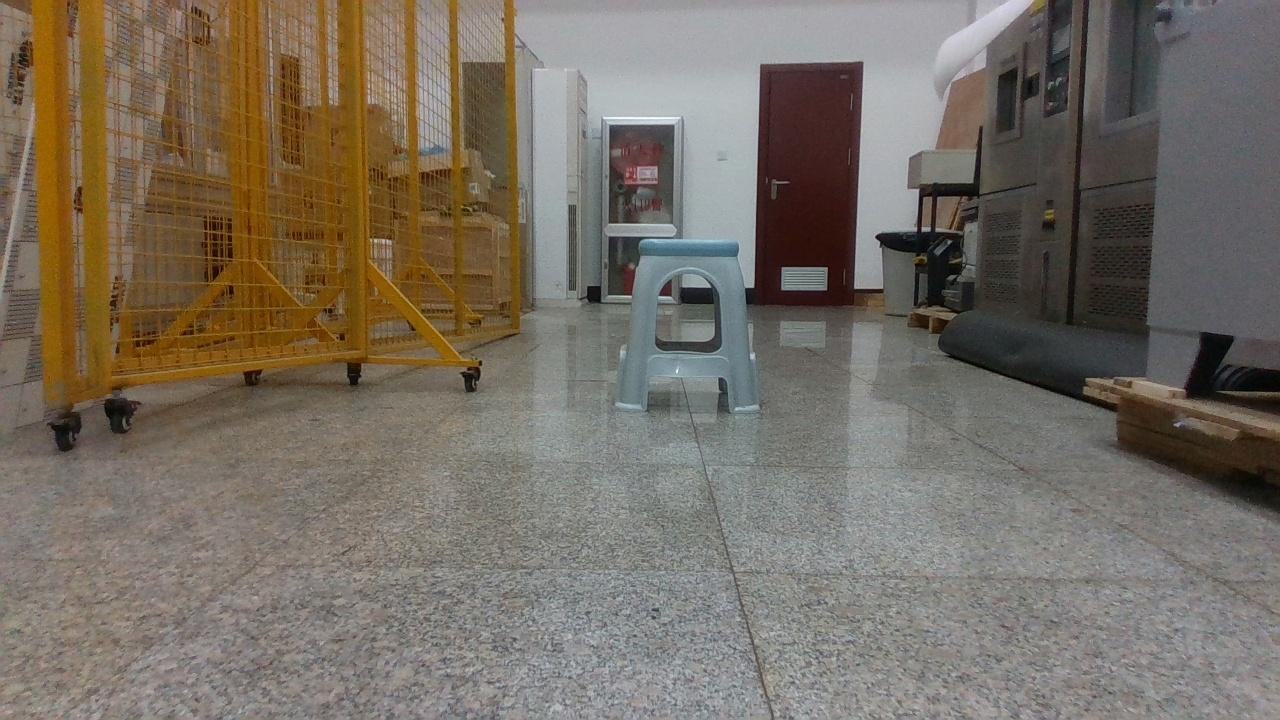stool: (615, 240, 760, 412)
